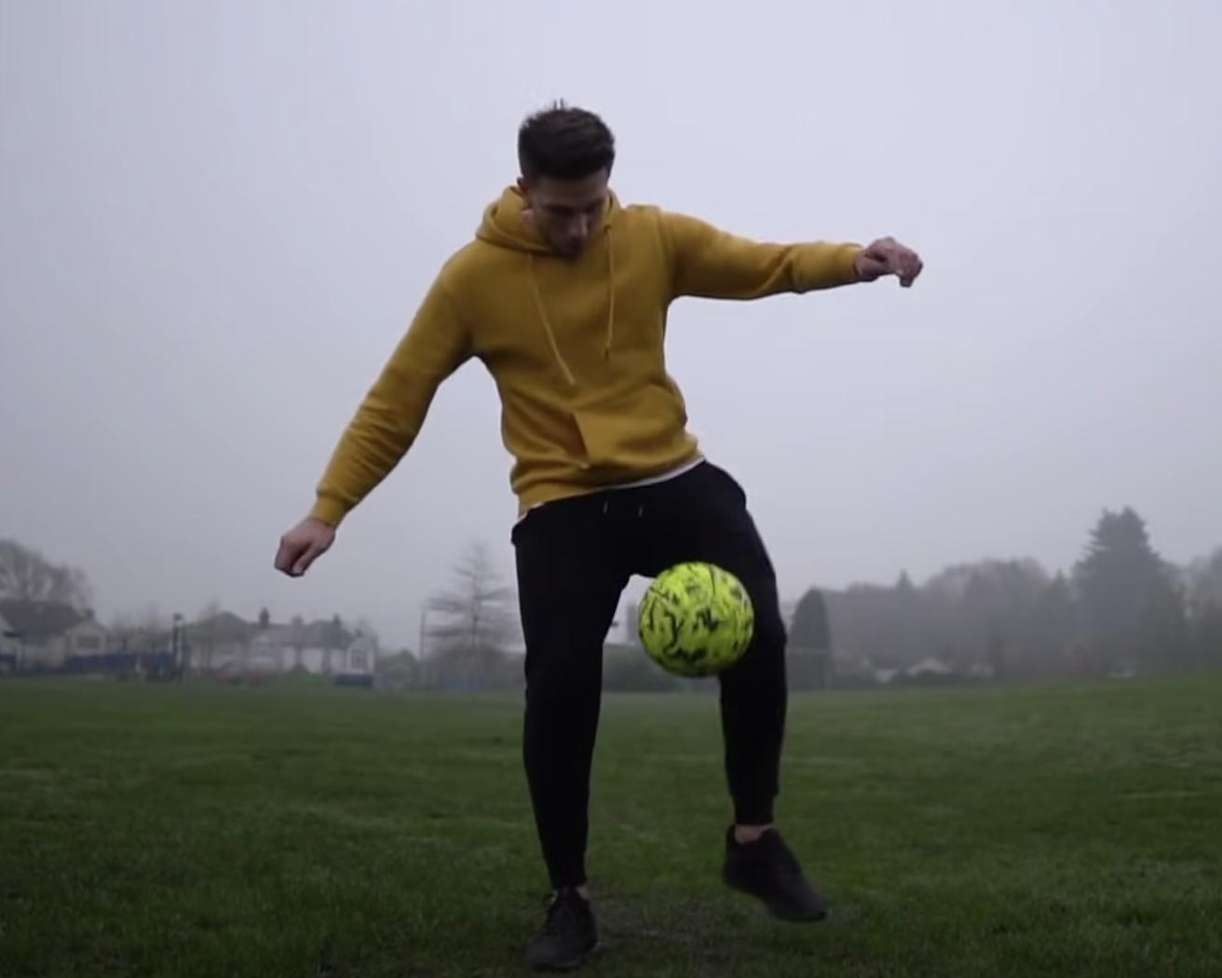ball: (639, 562, 754, 677)
foot: (720, 826, 833, 926), (515, 892, 599, 975)
person: (277, 97, 924, 978)
